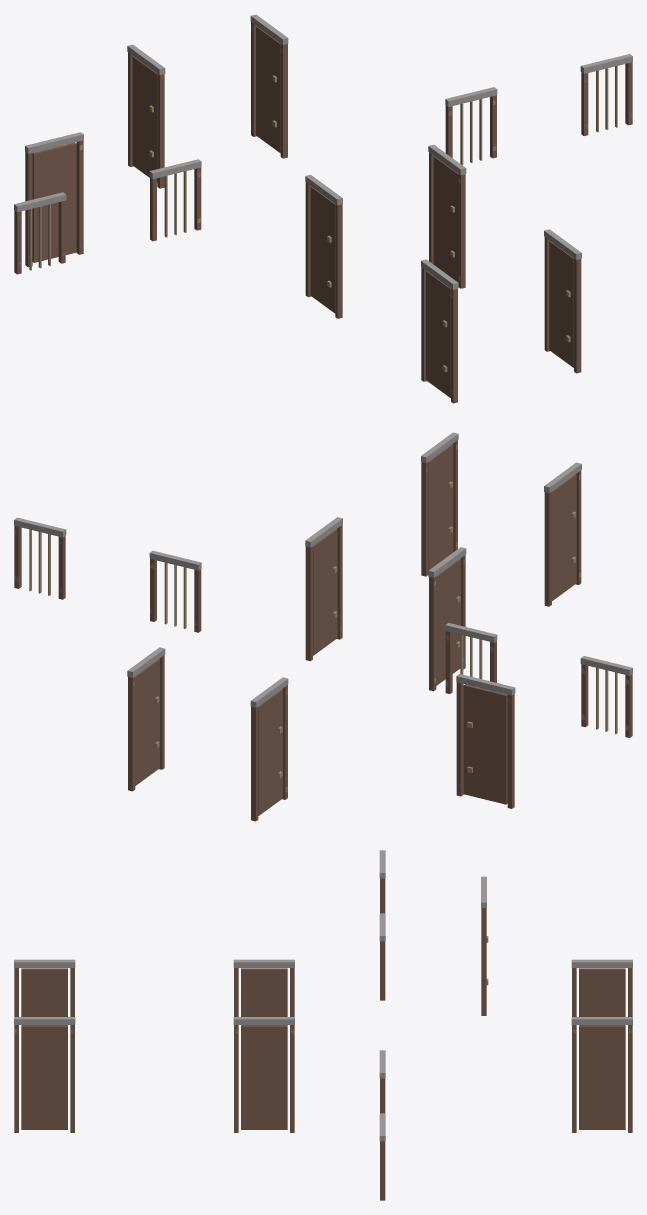
Rendered from door_window_floor_01.glb.
3 views of the same model, one above another, from view 1: azimuth 30°, elevation 25°; view 2: azimuth 150°, elevation 25°; view 3: azimuth 270°, elevation 25° (orthographic). The views are drawn at different scales.
Parts seen in each view (by area): view 1: fe-f1-room1-door-1-door-leaf, fe-f1-room3-door-0-door-leaf, fe-f1-room4-door-0-door-leaf, fe-f1-room1-door-0-door-leaf, fe-f1-hall-door-4-door-leaf, fe-f1-hall-door-5-door-leaf, fe-f1-room2-door-0-door-leaf, fe-f1-room3-door-0-carved-jamb-1, fe-f1-room2-door-0-carved-jamb-1, fe-f1-hall-door-5-carved-jamb-1, fe-f1-room4-door-0-carved-jamb-1, fe-f1-room1-door-1-carved-jamb-1 (+10 smaller); view 2: fe-f1-room1-door-1-door-leaf, fe-f1-hall-door-5-door-leaf, fe-f1-room1-door-0-door-leaf, fe-f1-room2-door-0-door-leaf, fe-f1-hall-door-4-door-leaf, fe-f1-room4-door-0-door-leaf, fe-f1-room3-door-0-door-leaf, fe-f1-room2-door-0-carved-jamb--1, fe-f1-room4-door-0-carved-jamb--1, fe-f1-hall-door-4-carved-jamb--1, fe-f1-room1-door-0-carved-jamb--1, fe-f1-room1-door-1-carved-jamb--1 (+9 smaller); view 3: fe-f1-room2-door-0-door-leaf, fe-f1-room4-door-0-door-leaf, fe-f1-hall-door-5-door-leaf, fe-f1-room1-door-0-door-leaf, fe-f1-room3-door-0-door-leaf, fe-f1-hall-door-4-door-leaf, fe-f1-room1-door-1-carved-jamb-1, fe-f1-room1-door-0-header, fe-f1-room3-door-0-header, fe-f1-hall-door-4-header, fe-f1-room2-door-0-carved-jamb--1, fe-f1-room2-door-0-carved-jamb-1 (+7 smaller).
Boxes of the visible parts, bbox=[...] form: fe-f1-room1-door-1-door-leaf: bbox=[32, 142, 76, 262]; fe-f1-room3-door-0-door-leaf: bbox=[310, 186, 335, 313]; fe-f1-room4-door-0-door-leaf: bbox=[433, 156, 458, 282]; fe-f1-room1-door-0-door-leaf: bbox=[132, 56, 157, 182]; fe-f1-hall-door-4-door-leaf: bbox=[426, 271, 450, 397]; fe-f1-hall-door-5-door-leaf: bbox=[549, 241, 573, 367]; fe-f1-room2-door-0-door-leaf: bbox=[256, 26, 280, 153]; fe-f1-room3-door-0-carved-jamb-1: bbox=[335, 204, 342, 318]; fe-f1-room2-door-0-carved-jamb-1: bbox=[280, 44, 287, 158]; fe-f1-hall-door-5-carved-jamb-1: bbox=[574, 258, 581, 373]; fe-f1-room4-door-0-carved-jamb-1: bbox=[458, 174, 465, 288]; fe-f1-room1-door-1-carved-jamb-1: bbox=[76, 140, 83, 254]; fe-f1-room1-door-1-door-leaf: bbox=[463, 684, 507, 804]; fe-f1-hall-door-5-door-leaf: bbox=[428, 444, 453, 569]; fe-f1-room1-door-0-door-leaf: bbox=[258, 689, 282, 815]; fe-f1-room2-door-0-door-leaf: bbox=[135, 659, 159, 785]; fe-f1-hall-door-4-door-leaf: bbox=[552, 474, 576, 600]; fe-f1-room4-door-0-door-leaf: bbox=[313, 529, 337, 655]; fe-f1-room3-door-0-door-leaf: bbox=[436, 559, 460, 685]; fe-f1-room2-door-0-carved-jamb--1: bbox=[128, 676, 135, 791]; fe-f1-room4-door-0-carved-jamb--1: bbox=[305, 546, 312, 661]; fe-f1-hall-door-4-carved-jamb--1: bbox=[544, 492, 551, 606]; fe-f1-room1-door-0-carved-jamb--1: bbox=[251, 707, 258, 821]; fe-f1-room1-door-1-carved-jamb--1: bbox=[507, 694, 514, 808]; fe-f1-room2-door-0-door-leaf: bbox=[579, 1025, 625, 1129]; fe-f1-room4-door-0-door-leaf: bbox=[241, 1025, 287, 1129]; fe-f1-hall-door-5-door-leaf: bbox=[21, 1025, 67, 1129]; fe-f1-room1-door-0-door-leaf: bbox=[579, 968, 625, 1025]; fe-f1-room3-door-0-door-leaf: bbox=[241, 968, 287, 1025]; fe-f1-hall-door-4-door-leaf: bbox=[21, 968, 67, 1025]; fe-f1-room1-door-1-carved-jamb-1: bbox=[481, 908, 486, 1015]; fe-f1-room1-door-0-header: bbox=[571, 959, 632, 967]; fe-f1-room3-door-0-header: bbox=[233, 959, 294, 967]; fe-f1-hall-door-4-header: bbox=[14, 959, 75, 967]; fe-f1-room2-door-0-carved-jamb--1: bbox=[628, 1025, 632, 1132]; fe-f1-room2-door-0-carved-jamb-1: bbox=[572, 1025, 576, 1132].
Bounding box in the file's own units: 12.19 × 2.26 × 11.16.
